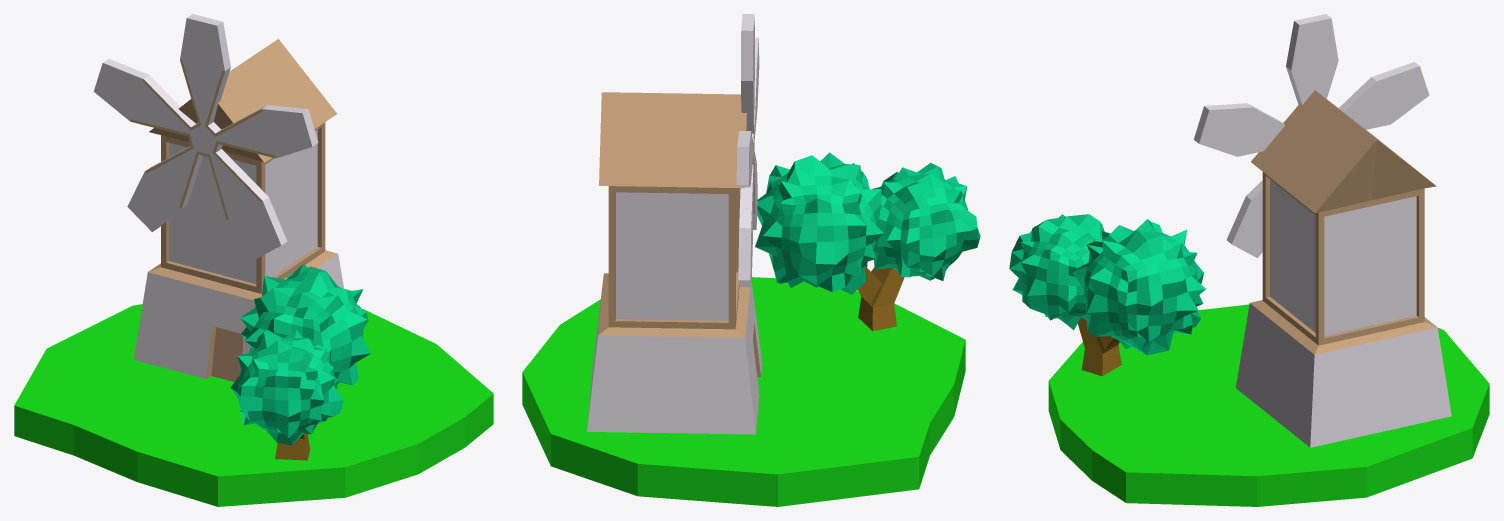
Rendered from low poly mill.fbx.
The picture shows the model from 3 angles, left to right: view 1: azimuth 30°, elevation 25°; view 2: azimuth 150°, elevation 25°; view 3: azimuth 270°, elevation 25°; orthographic projection. The views are drawn at different scales.
Visible parts, largest first — view 1: Green_platform, Mill, propeller, Tree; view 2: Green_platform, Mill, Tree, propeller; view 3: Mill, Green_platform, Tree, propeller.
Boxes of the visible parts, x1,y1,x2,y2 form: Green_platform: [14, 304, 493, 506]; Mill: [133, 39, 343, 381]; propeller: [93, 14, 318, 258]; Tree: [230, 264, 370, 460]; Green_platform: [522, 277, 965, 506]; Mill: [587, 92, 762, 434]; Tree: [755, 152, 980, 331]; propeller: [736, 14, 759, 287]; Mill: [1236, 90, 1451, 447]; Green_platform: [1048, 304, 1489, 506]; Tree: [1009, 214, 1205, 376]; propeller: [1194, 14, 1429, 258].
Bounding box in the file's own units: 104 × 100 × 113.
